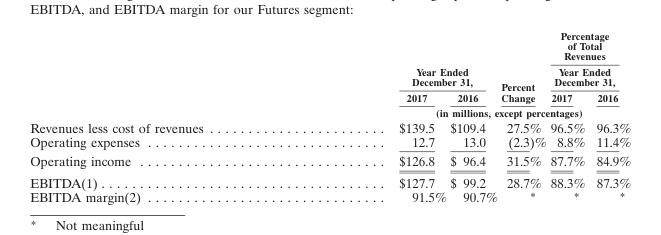table: (29, 28, 630, 204)
table column: (29, 28, 300, 204), (300, 28, 447, 204), (447, 28, 498, 204), (498, 28, 547, 204), (547, 28, 590, 204), (590, 28, 630, 204)
table column header: (29, 28, 630, 118)
table row: (29, 28, 630, 89), (29, 150, 630, 171), (29, 171, 630, 189), (29, 118, 630, 134), (29, 134, 630, 150), (29, 89, 630, 104), (29, 189, 630, 204), (29, 104, 630, 118)
table spanning cell: (300, 28, 498, 89), (547, 28, 630, 89), (300, 104, 630, 118), (498, 28, 547, 104)
